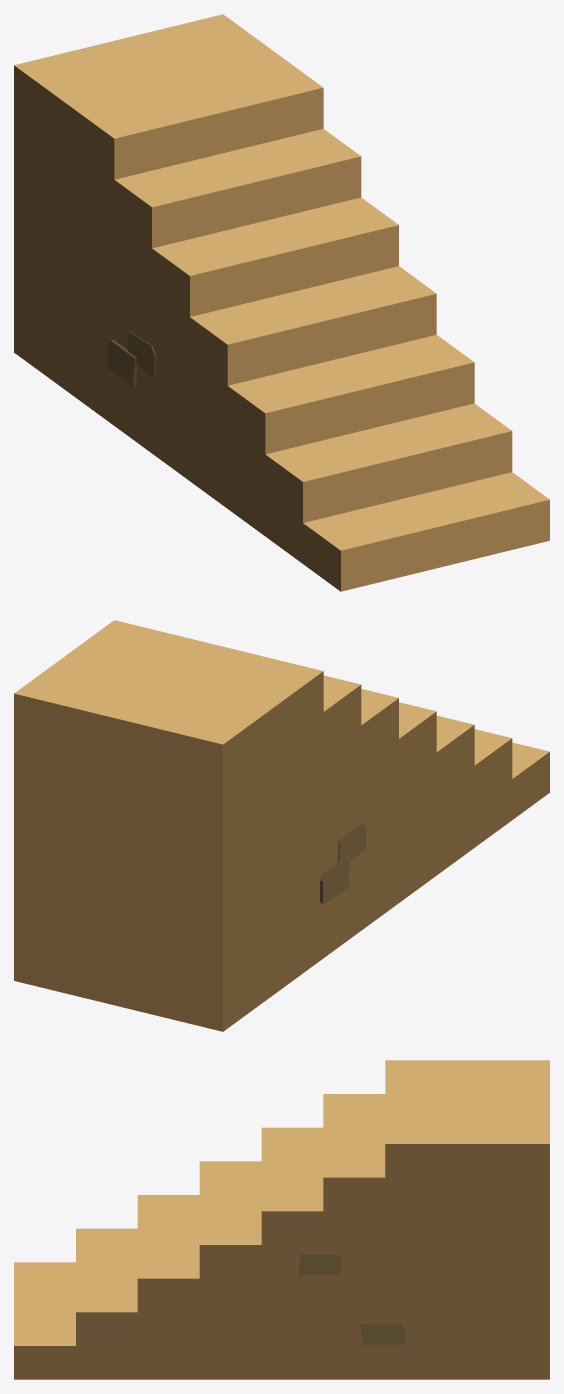
File: TB_D_Bd_Stair_Yel.FBX
3 renders of one model, top to bottom at view 1: azimuth 30°, elevation 25°; view 2: azimuth 150°, elevation 25°; view 3: azimuth 270°, elevation 25°, orthographic. The views are drawn at different scales.
Parts seen in each view (by area): view 1: TB_D_Bd_Stair_Yel; view 2: TB_D_Bd_Stair_Yel; view 3: TB_D_Bd_Stair_Yel.
Part boxes in pixels (x1,y1,x2,y2): TB_D_Bd_Stair_Yel: [14, 14, 549, 591]; TB_D_Bd_Stair_Yel: [14, 620, 549, 1031]; TB_D_Bd_Stair_Yel: [14, 1060, 549, 1379].
Bounding box in the file's own units: 2.06 × 2.62 × 5.41.
